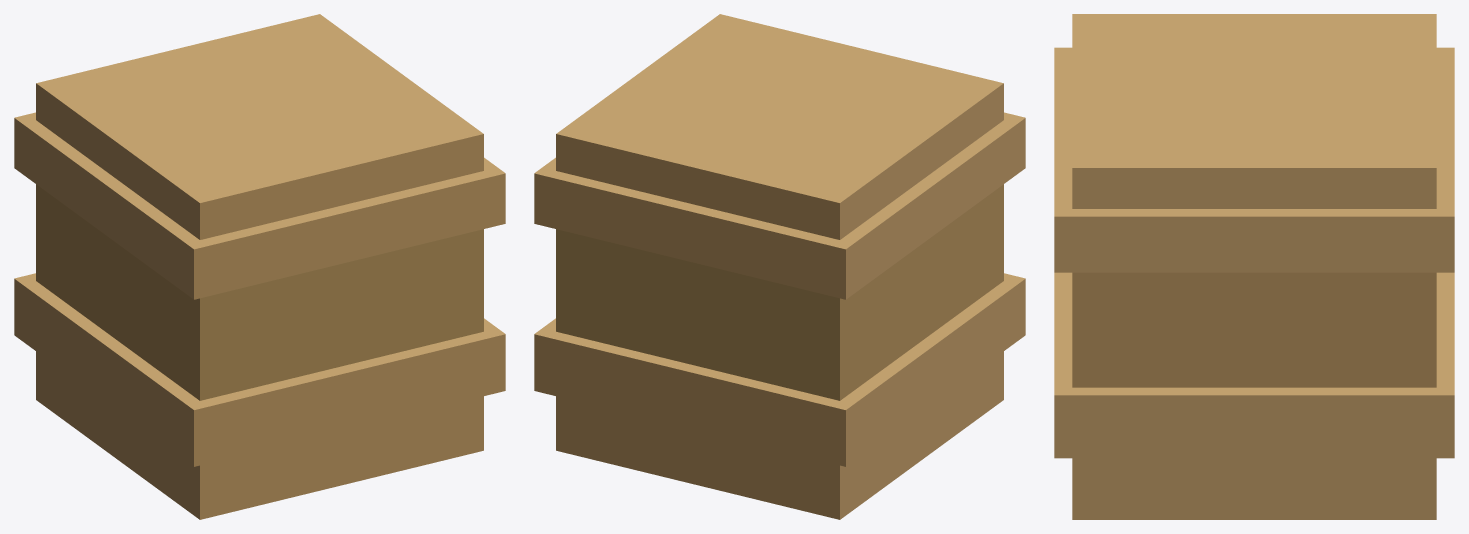
File: ST_Env_PillarCap_01.fbx
The picture shows the model from 3 angles, left to right: view 1: azimuth 30°, elevation 25°; view 2: azimuth 150°, elevation 25°; view 3: azimuth 270°, elevation 25°; orthographic projection. The views are drawn at different scales.
Parts seen in each view (by area): view 1: ST_Env_PillarCap_01; view 2: ST_Env_PillarCap_01; view 3: ST_Env_PillarCap_01.
Boxes of the visible parts, x1,y1,x2,y2 form: ST_Env_PillarCap_01: (14, 14, 505, 519); ST_Env_PillarCap_01: (534, 14, 1025, 519); ST_Env_PillarCap_01: (1054, 14, 1454, 519).
Size of the model in its own units: 0.4832 by 0.4692 by 0.4832.
